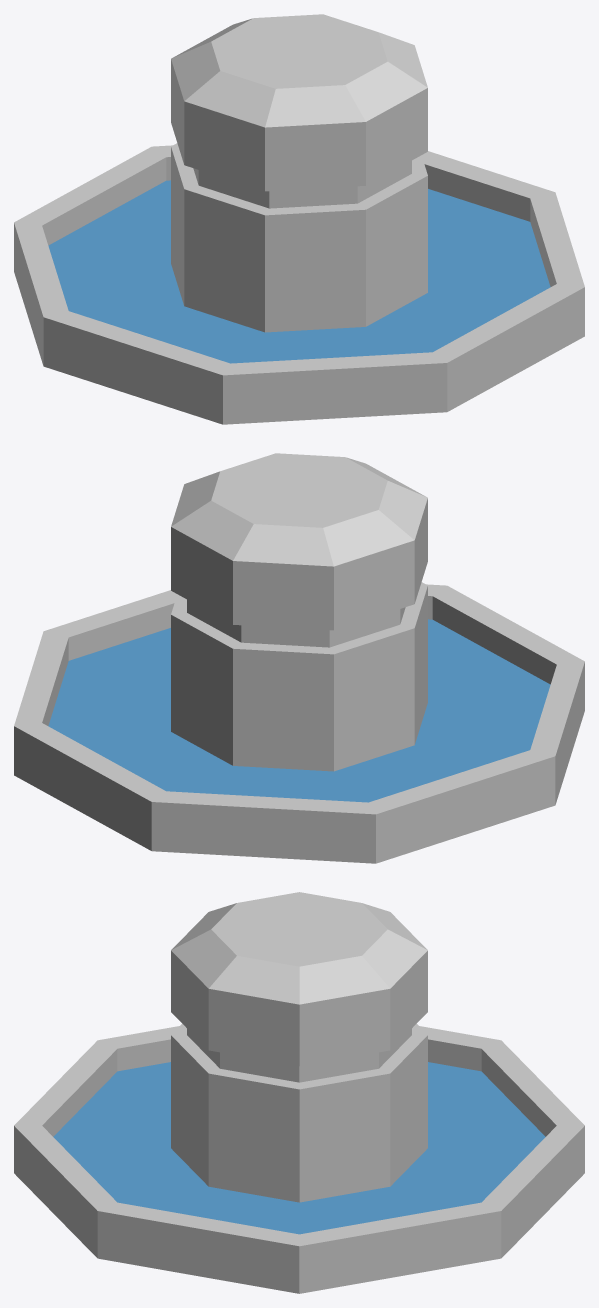
The model's file is Fountain_01.fbx.
3 renders of one model, top to bottom at view 1: azimuth 30°, elevation 25°; view 2: azimuth 150°, elevation 25°; view 3: azimuth 270°, elevation 25°, orthographic. The views are drawn at different scales.
Visible parts, largest first — view 1: Fountain_01; view 2: Fountain_01; view 3: Fountain_01.
Boxes of the visible parts, left/top/right/bottom form: Fountain_01: left=14, top=14, right=584, bottom=424; Fountain_01: left=14, top=453, right=584, bottom=863; Fountain_01: left=14, top=892, right=584, bottom=1293.
Size of the model in its own units: 8.3 by 3.91 by 8.3.
